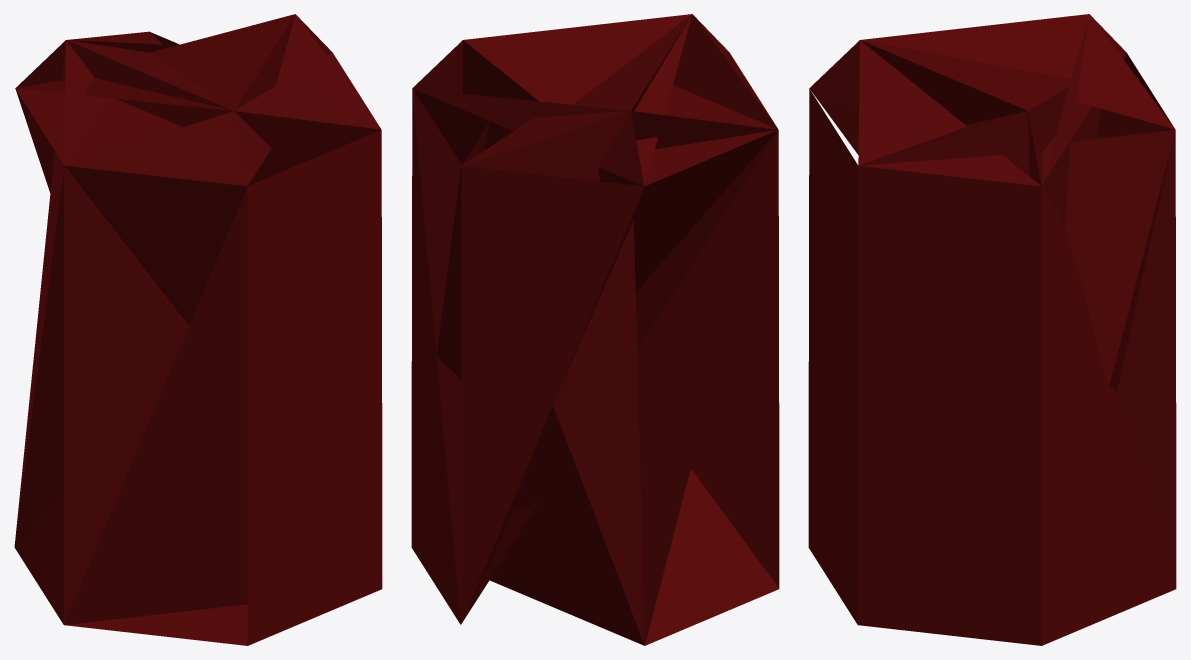
File: S.S._Dolphin_Guard_Satellite_3.obj
The picture shows the model from 3 angles, left to right: view 1: azimuth 30°, elevation 25°; view 2: azimuth 150°, elevation 25°; view 3: azimuth 270°, elevation 25°; orthographic projection.
Parts seen in each view (by area): view 1: S.S._Dolphin_Guard_Satellite_3; view 2: S.S._Dolphin_Guard_Satellite_3; view 3: S.S._Dolphin_Guard_Satellite_3.
Boxes of the visible parts, x1=… form: S.S._Dolphin_Guard_Satellite_3: x1=14, y1=14, x2=382, y2=645; S.S._Dolphin_Guard_Satellite_3: x1=411, y1=14, x2=779, y2=645; S.S._Dolphin_Guard_Satellite_3: x1=808, y1=14, x2=1176, y2=645.
Bounding box in the file's own units: 0.4808 × 0.7398 × 0.4808.
